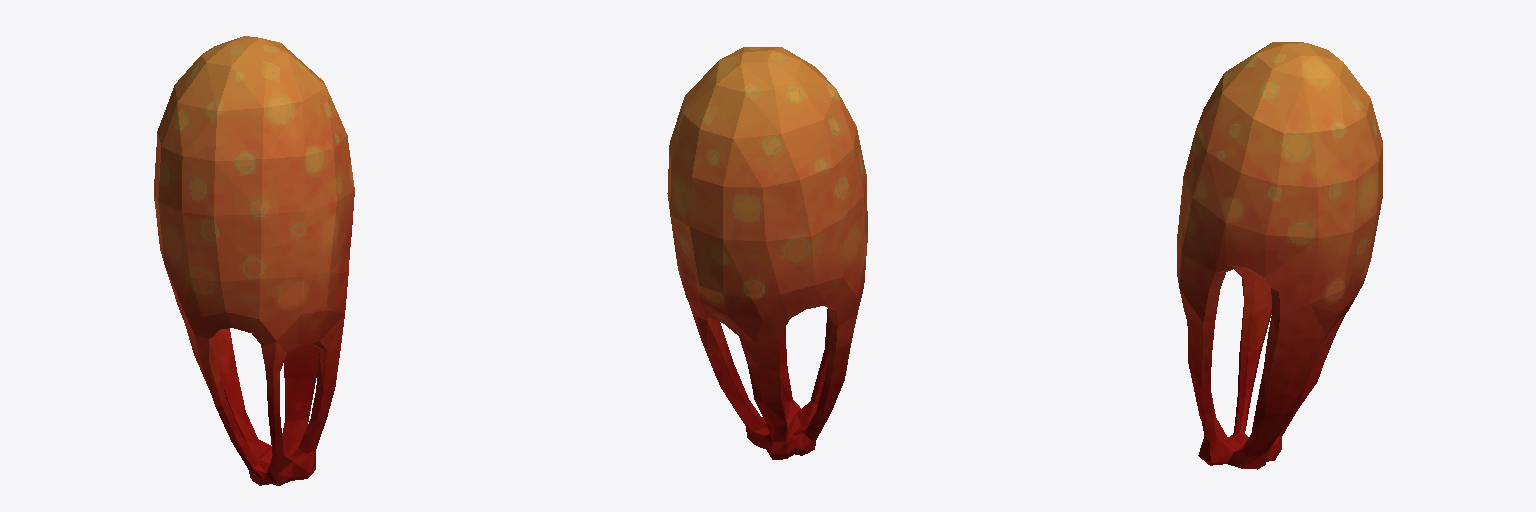
3 views of the same model, side by side, from view 1: azimuth 30°, elevation 25°; view 2: azimuth 150°, elevation 25°; view 3: azimuth 270°, elevation 25° (orthographic).
Visible parts, largest first — view 1: parachute_plant01_various_plants_01_Inst_0; view 2: parachute_plant01_various_plants_01_Inst_0; view 3: parachute_plant01_various_plants_01_Inst_0.
Part boxes in pixels (left/top/right/bottom): parachute_plant01_various_plants_01_Inst_0: left=154, top=36, right=354, bottom=485; parachute_plant01_various_plants_01_Inst_0: left=667, top=47, right=867, bottom=459; parachute_plant01_various_plants_01_Inst_0: left=1177, top=42, right=1382, bottom=469.
Size of the model in its own units: 1.7 by 3.94 by 1.77.
1 materials, 1 textured.